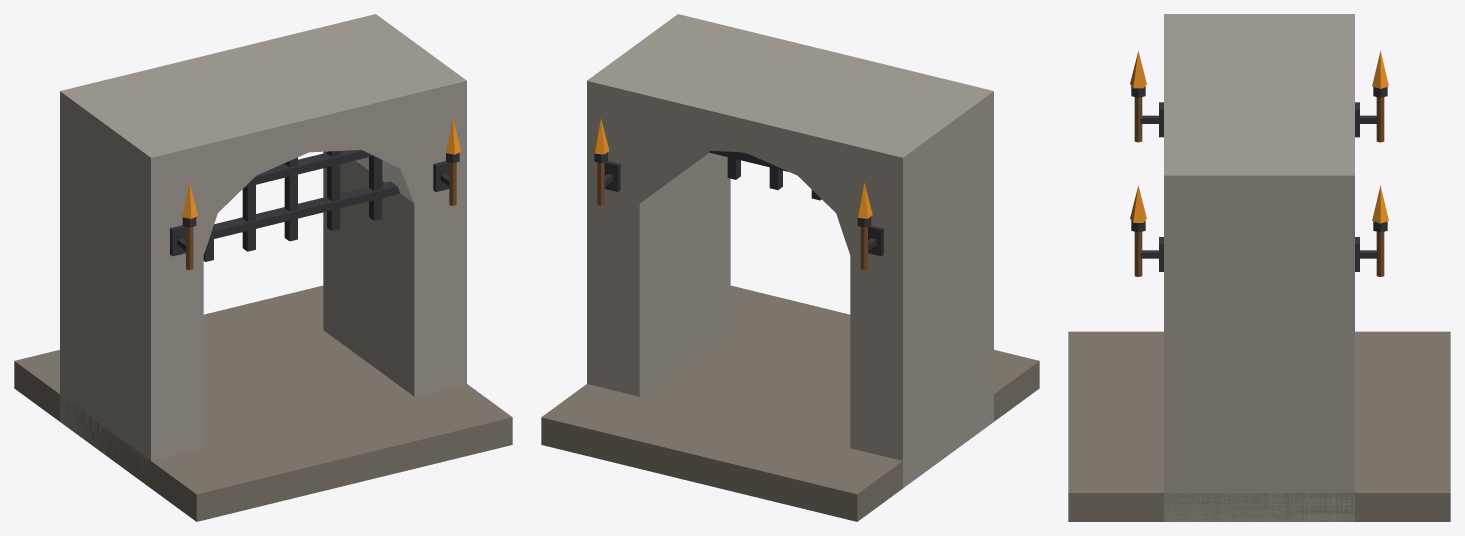
File: Brama_Dol_Pochodnie.fbx
3 renders of one model, left to right at view 1: azimuth 30°, elevation 25°; view 2: azimuth 150°, elevation 25°; view 3: azimuth 270°, elevation 25°, orthographic. The views are drawn at different scales.
Parts seen in each view (by area): view 1: Brama_Dol_Pochodnie; view 2: Brama_Dol_Pochodnie; view 3: Brama_Dol_Pochodnie.
Part boxes in pixels (x1,y1,x2,y2): Brama_Dol_Pochodnie: (14,14,512,521); Brama_Dol_Pochodnie: (541,14,1039,521); Brama_Dol_Pochodnie: (1068,14,1450,521).
Size of the model in its own units: 3 by 3 by 3.
